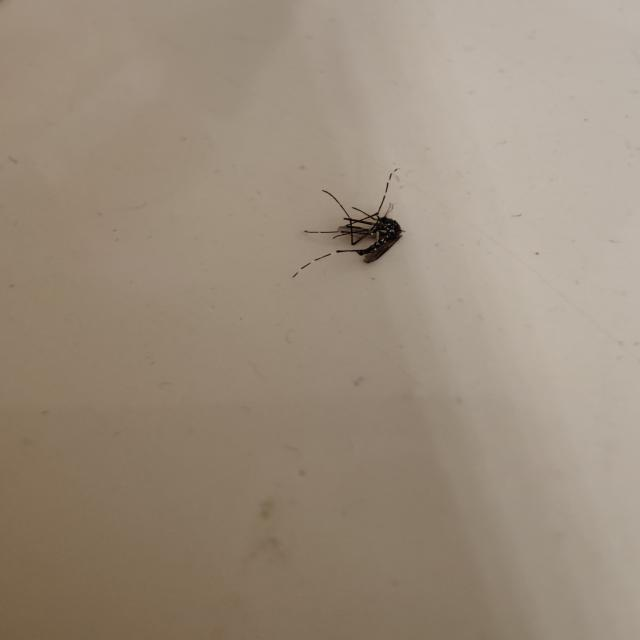albopictus: (289, 164, 411, 280)
